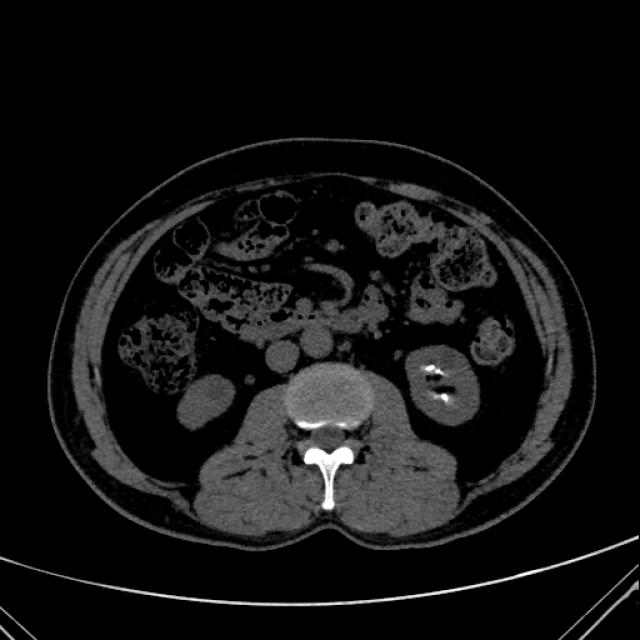kidneystone: (421, 364, 445, 381)
